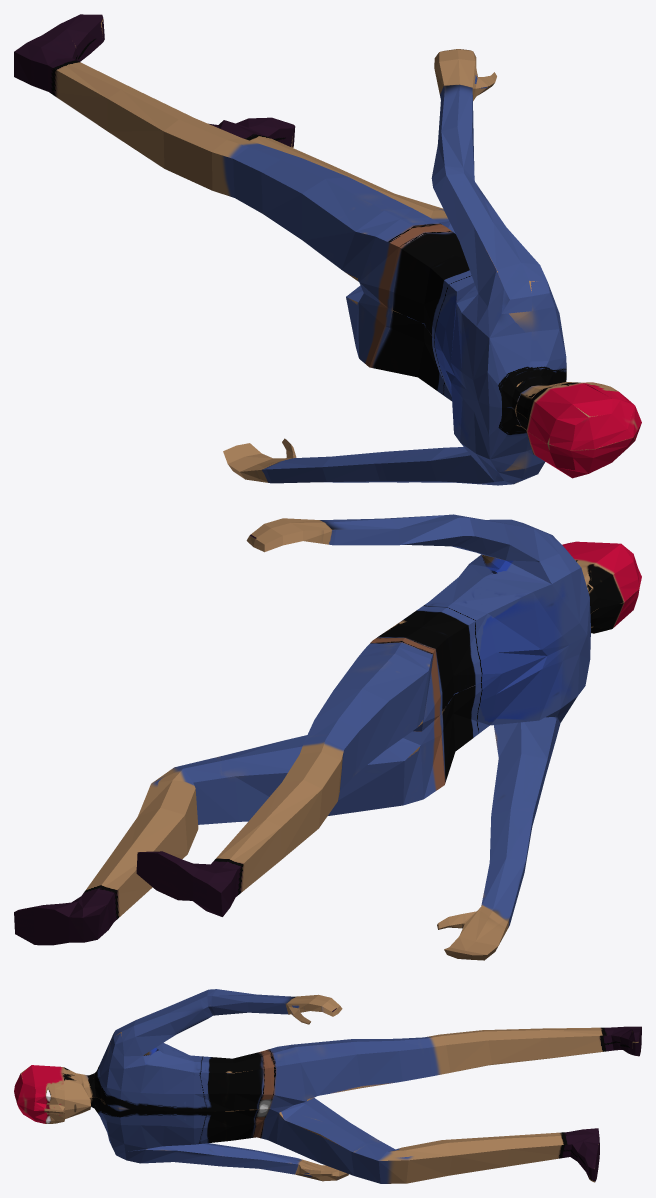
The model's file is mirrorman_000021.obj.
3 views of the same model, one above another, from view 1: azimuth 30°, elevation 25°; view 2: azimuth 150°, elevation 25°; view 3: azimuth 270°, elevation 25° (orthographic). The views are drawn at different scales.
Parts seen in each view (by area): view 1: mirrorman_Cube.001_Material.001; view 2: mirrorman_Cube.001_Material.001; view 3: mirrorman_Cube.001_Material.001.
Boxes of the visible parts, bbox=[...] form: mirrorman_Cube.001_Material.001: bbox=[14, 14, 641, 485]; mirrorman_Cube.001_Material.001: bbox=[14, 514, 641, 960]; mirrorman_Cube.001_Material.001: bbox=[14, 989, 641, 1183].
Size of the model in its own units: 0.6166 by 0.7908 by 1.89.
